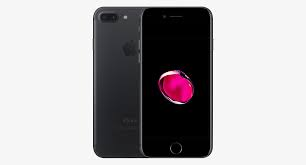iphone: (140, 5, 213, 160)
iphone7: (91, 4, 214, 158), (140, 5, 213, 160)
